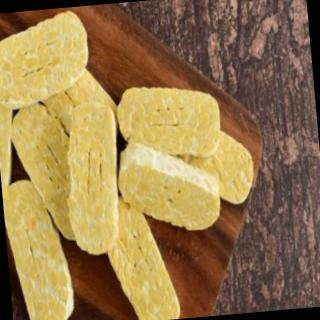Tempe: (58, 99, 129, 259), (111, 79, 225, 168), (1, 8, 94, 111)
